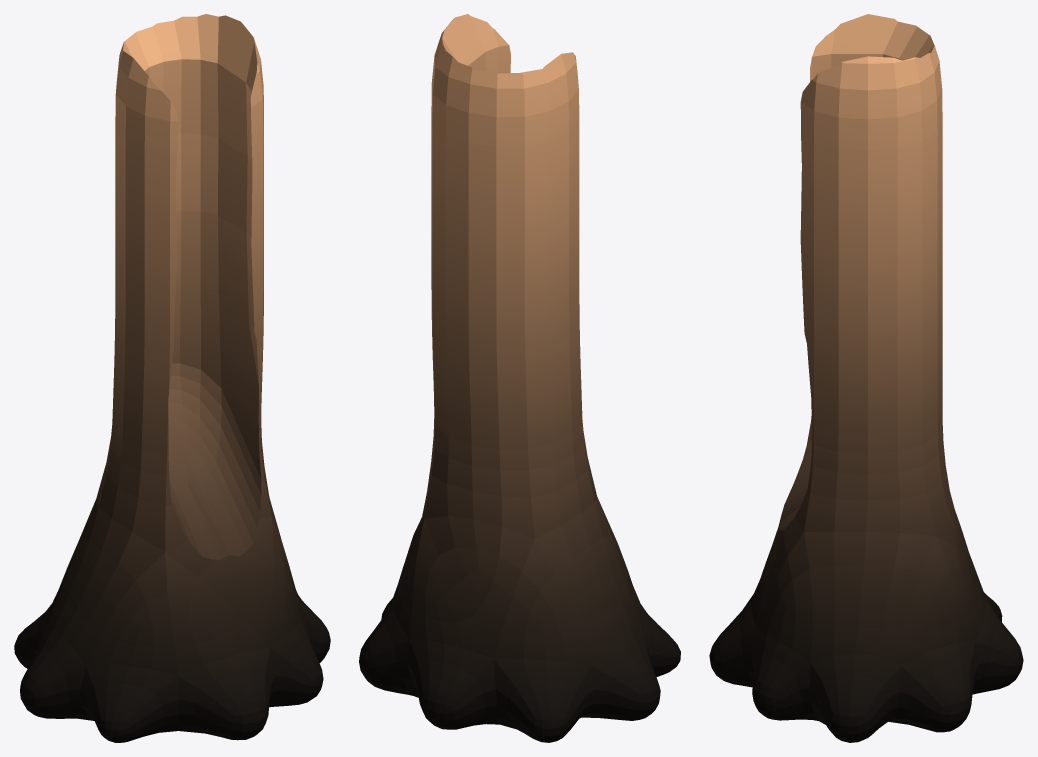
Rendered from hollow_tree2.fbx.
3 renders of one model, left to right at view 1: azimuth 30°, elevation 25°; view 2: azimuth 150°, elevation 25°; view 3: azimuth 270°, elevation 25°, orthographic.
Parts seen in each view (by area): view 1: hollow_tree; view 2: hollow_tree; view 3: hollow_tree.
Part boxes in pixels (x1,y1,x2,y2): hollow_tree: [14, 14, 330, 742]; hollow_tree: [359, 14, 680, 742]; hollow_tree: [709, 14, 1023, 742].
Bounding box in the file's own units: 563 × 1224 × 527.
